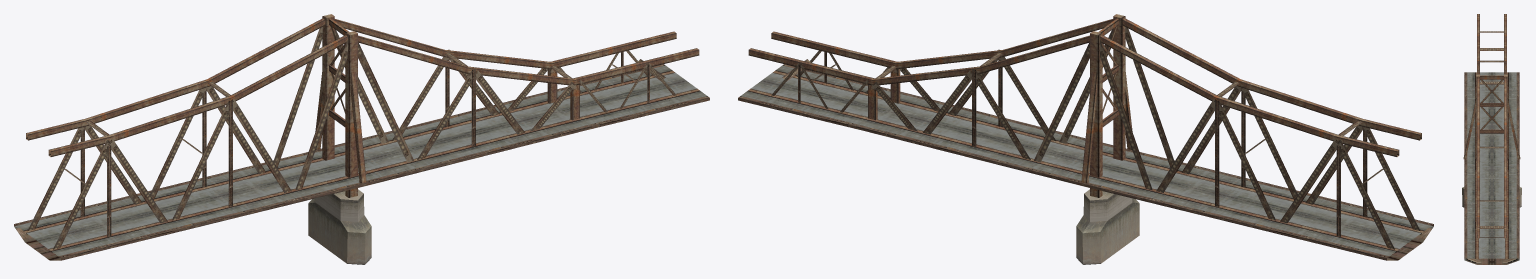
The model's file is SM_Buildings_DoumerBridge_01.fbx.
3 views of the same model, side by side, from view 1: azimuth 30°, elevation 25°; view 2: azimuth 150°, elevation 25°; view 3: azimuth 270°, elevation 25° (orthographic). The views are drawn at different scales.
Parts seen in each view (by area): view 1: SM_Buildings_DoumerBridge_01; view 2: SM_Buildings_DoumerBridge_01; view 3: SM_Buildings_DoumerBridge_01.
Part boxes in pixels (left/top/right/bottom): SM_Buildings_DoumerBridge_01: left=14, top=14, right=709, bottom=264; SM_Buildings_DoumerBridge_01: left=738, top=14, right=1433, bottom=264; SM_Buildings_DoumerBridge_01: left=1462, top=14, right=1521, bottom=264.
Bounding box in the file's own units: 81.65 × 26.66 × 11.
